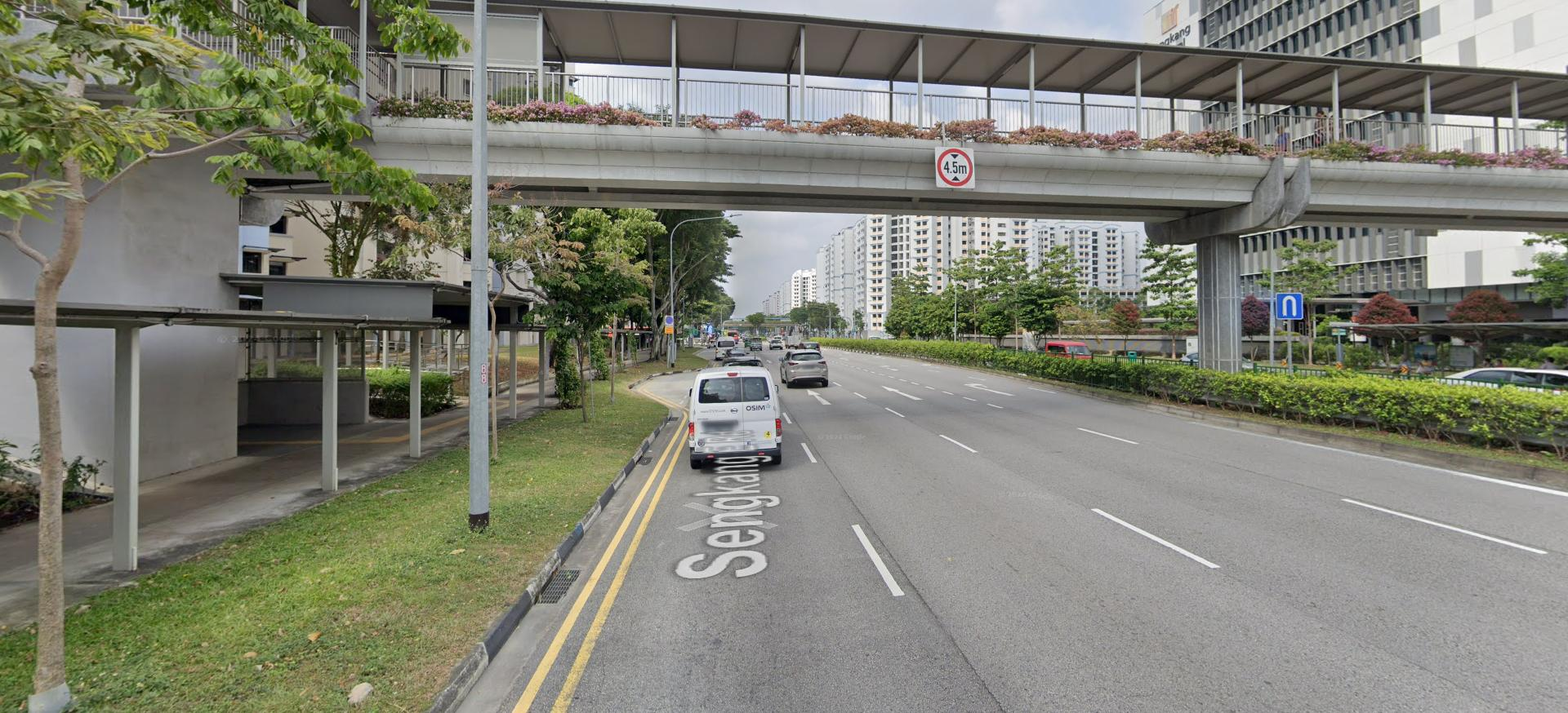normal: (535, 569, 582, 604)
